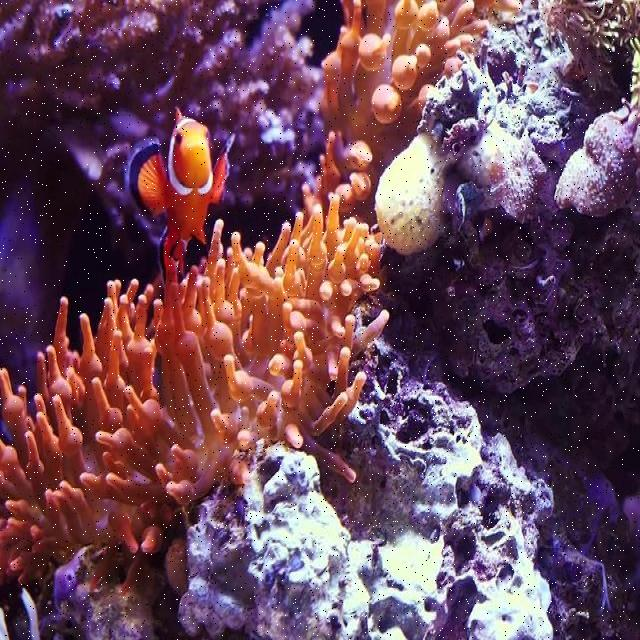fish: (124, 106, 236, 287)
reefs: (1, 0, 522, 596)
sea-floor: (178, 0, 639, 639)
